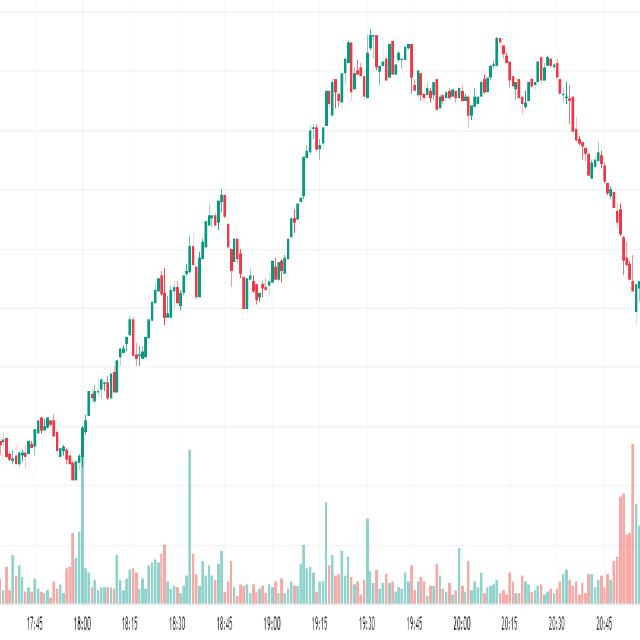Rounding-Top: (271, 21, 636, 278)
